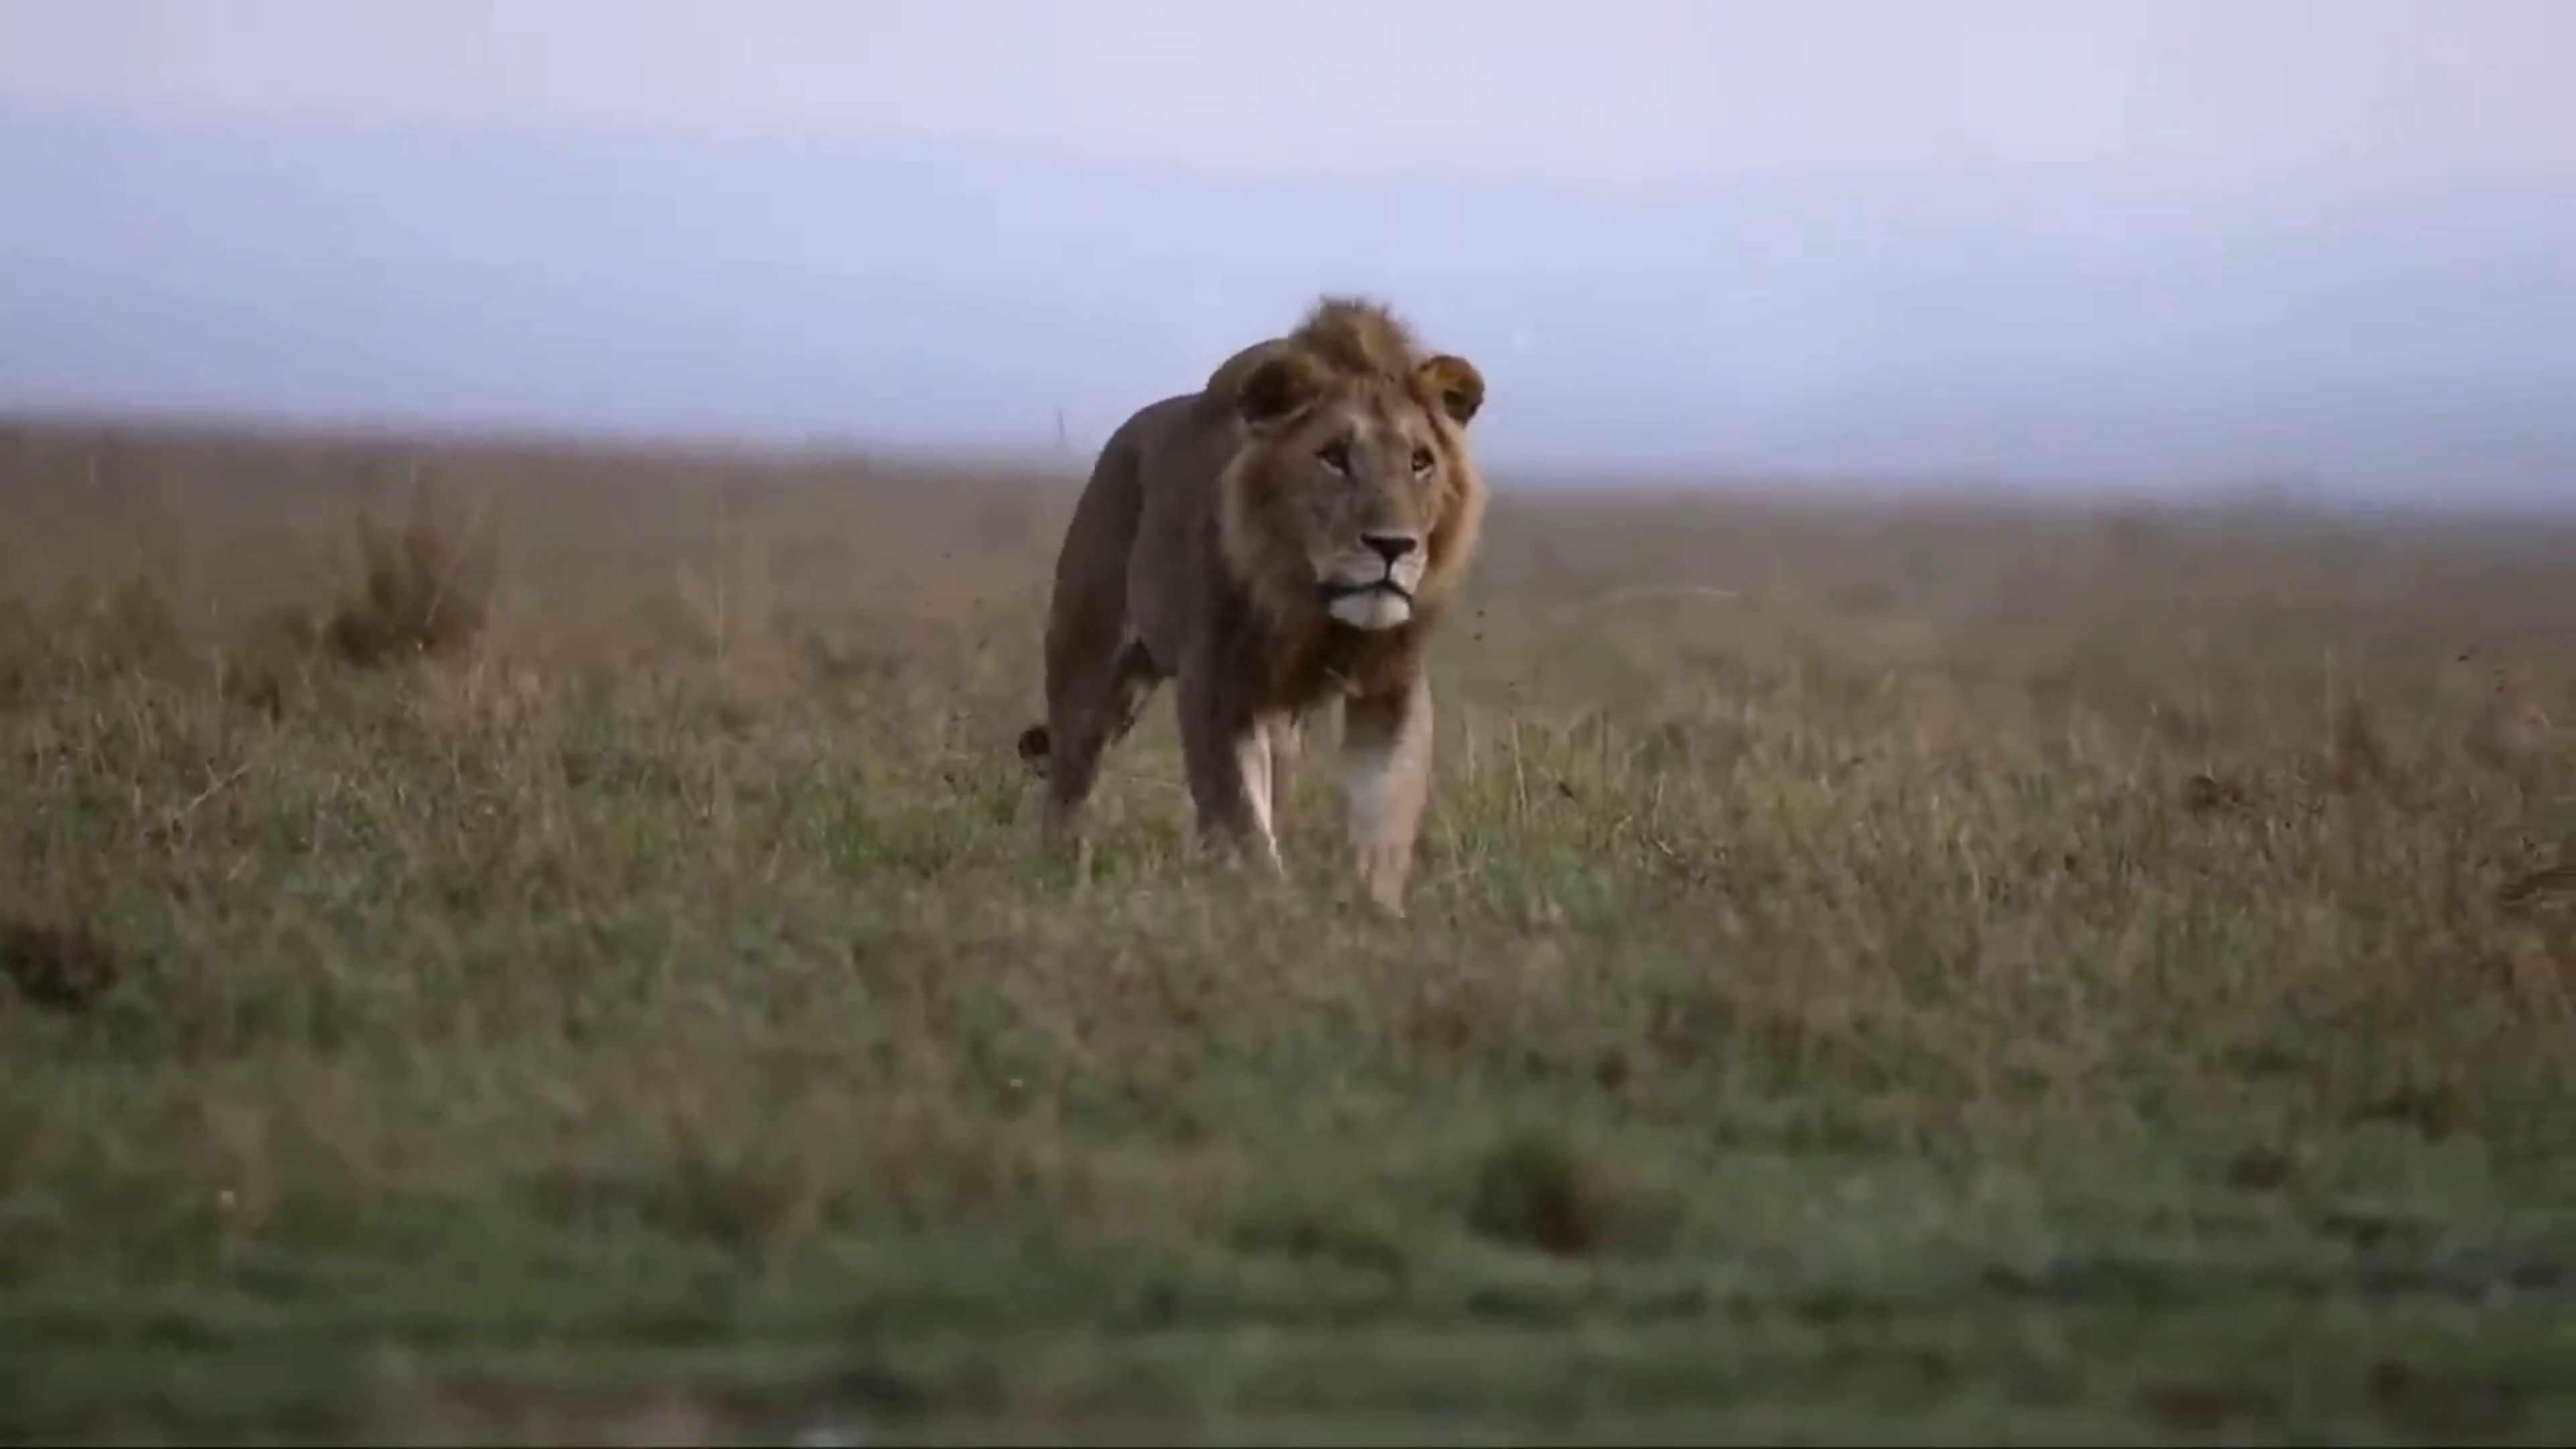Lion: (1017, 292, 1486, 927)
